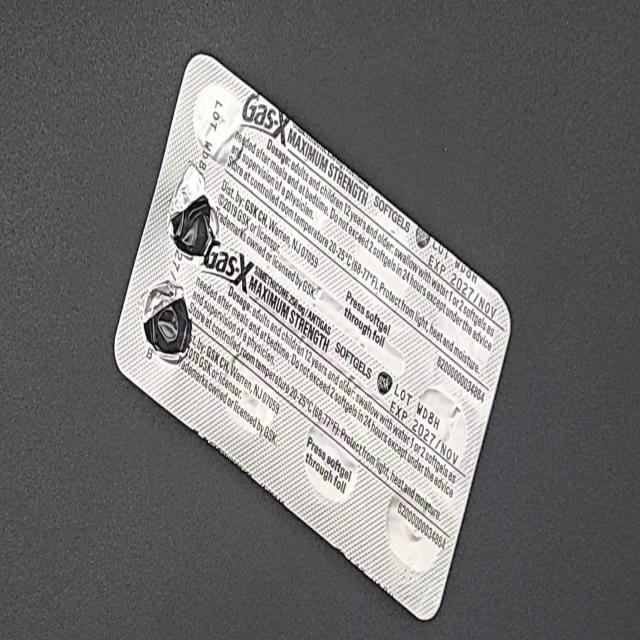defect: (163, 157, 220, 266), (137, 277, 193, 365)
